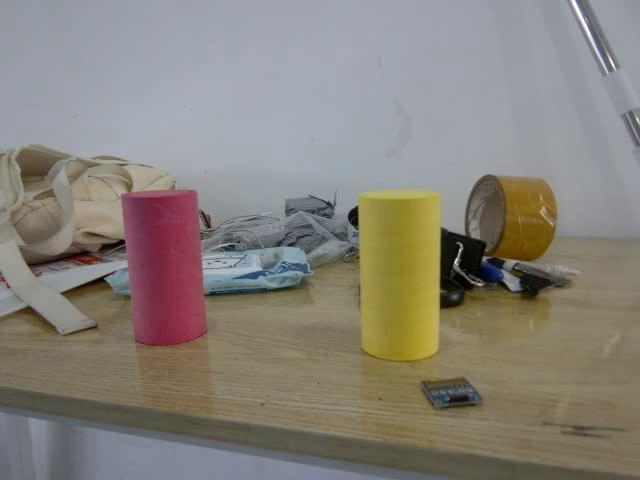red_cylinder: (117, 187, 216, 347)
yellow_cylinder: (355, 188, 446, 364)
